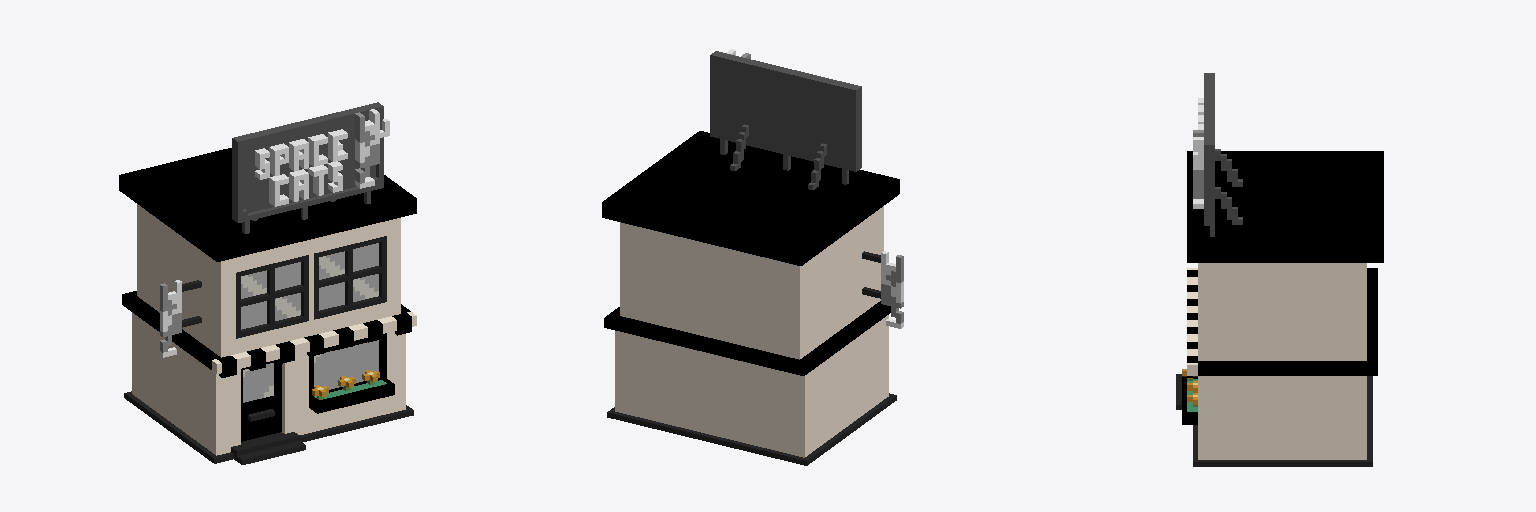
3 views of the same model, side by side, from view 1: azimuth 30°, elevation 25°; view 2: azimuth 150°, elevation 25°; view 3: azimuth 270°, elevation 25° (orthographic).
Parts seen in each view (by area): view 1: object 1; view 2: object 1; view 3: object 1.
Part boxes in pixels (x1,y1,x2,y2): object 1: (119,102,416,464); object 1: (602,49,903,465); object 1: (1176,73,1383,466).
Size of the model in its own units: 4.7 by 6.1 by 3.7.
1 materials, 1 textured.